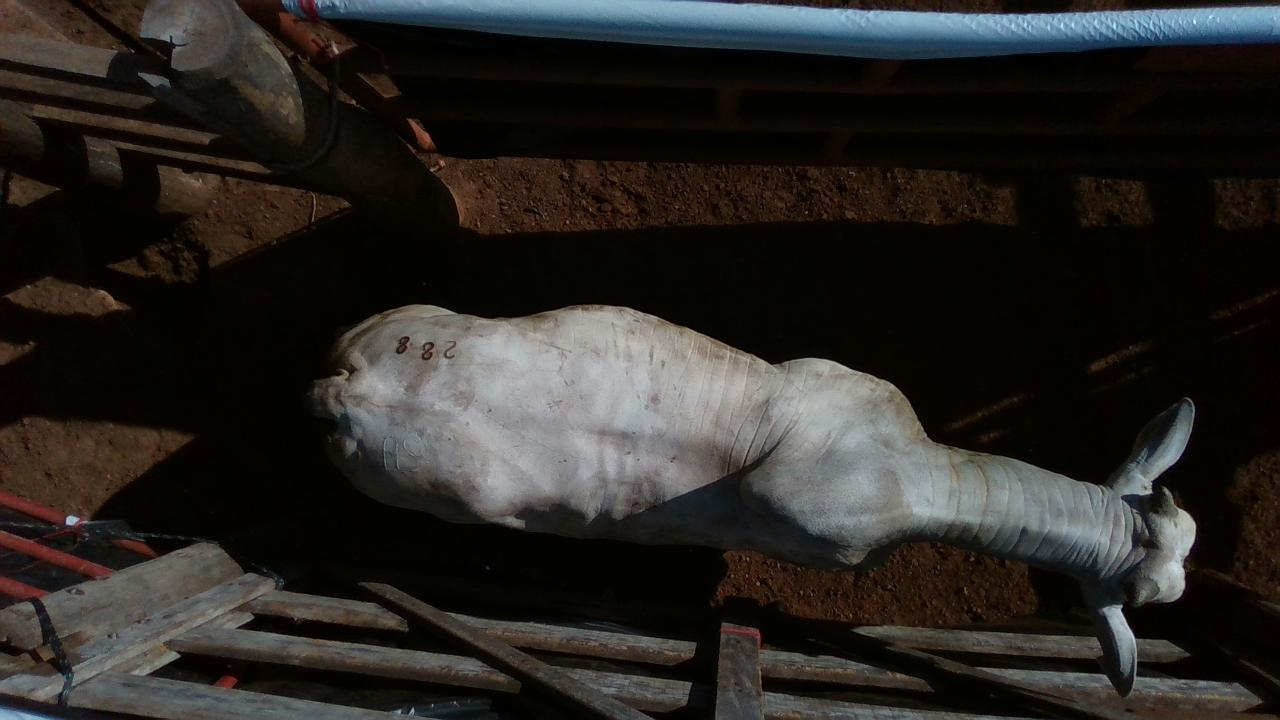cattle: (305, 299, 1199, 696)
